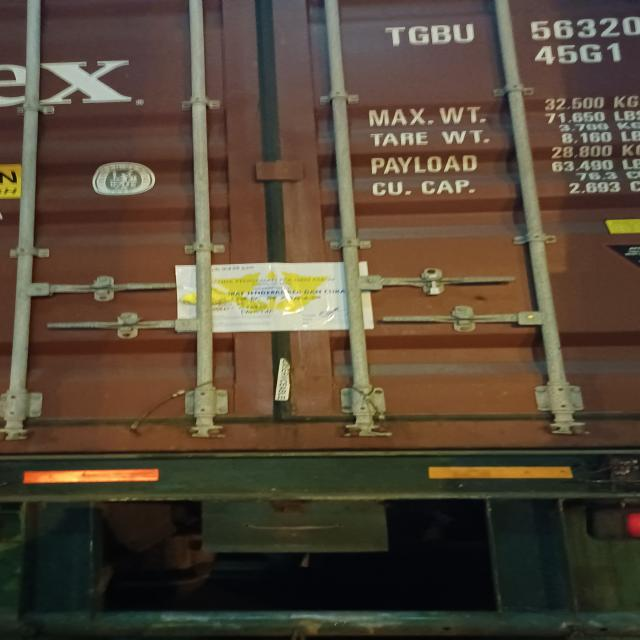seal: (422, 267, 446, 297)
